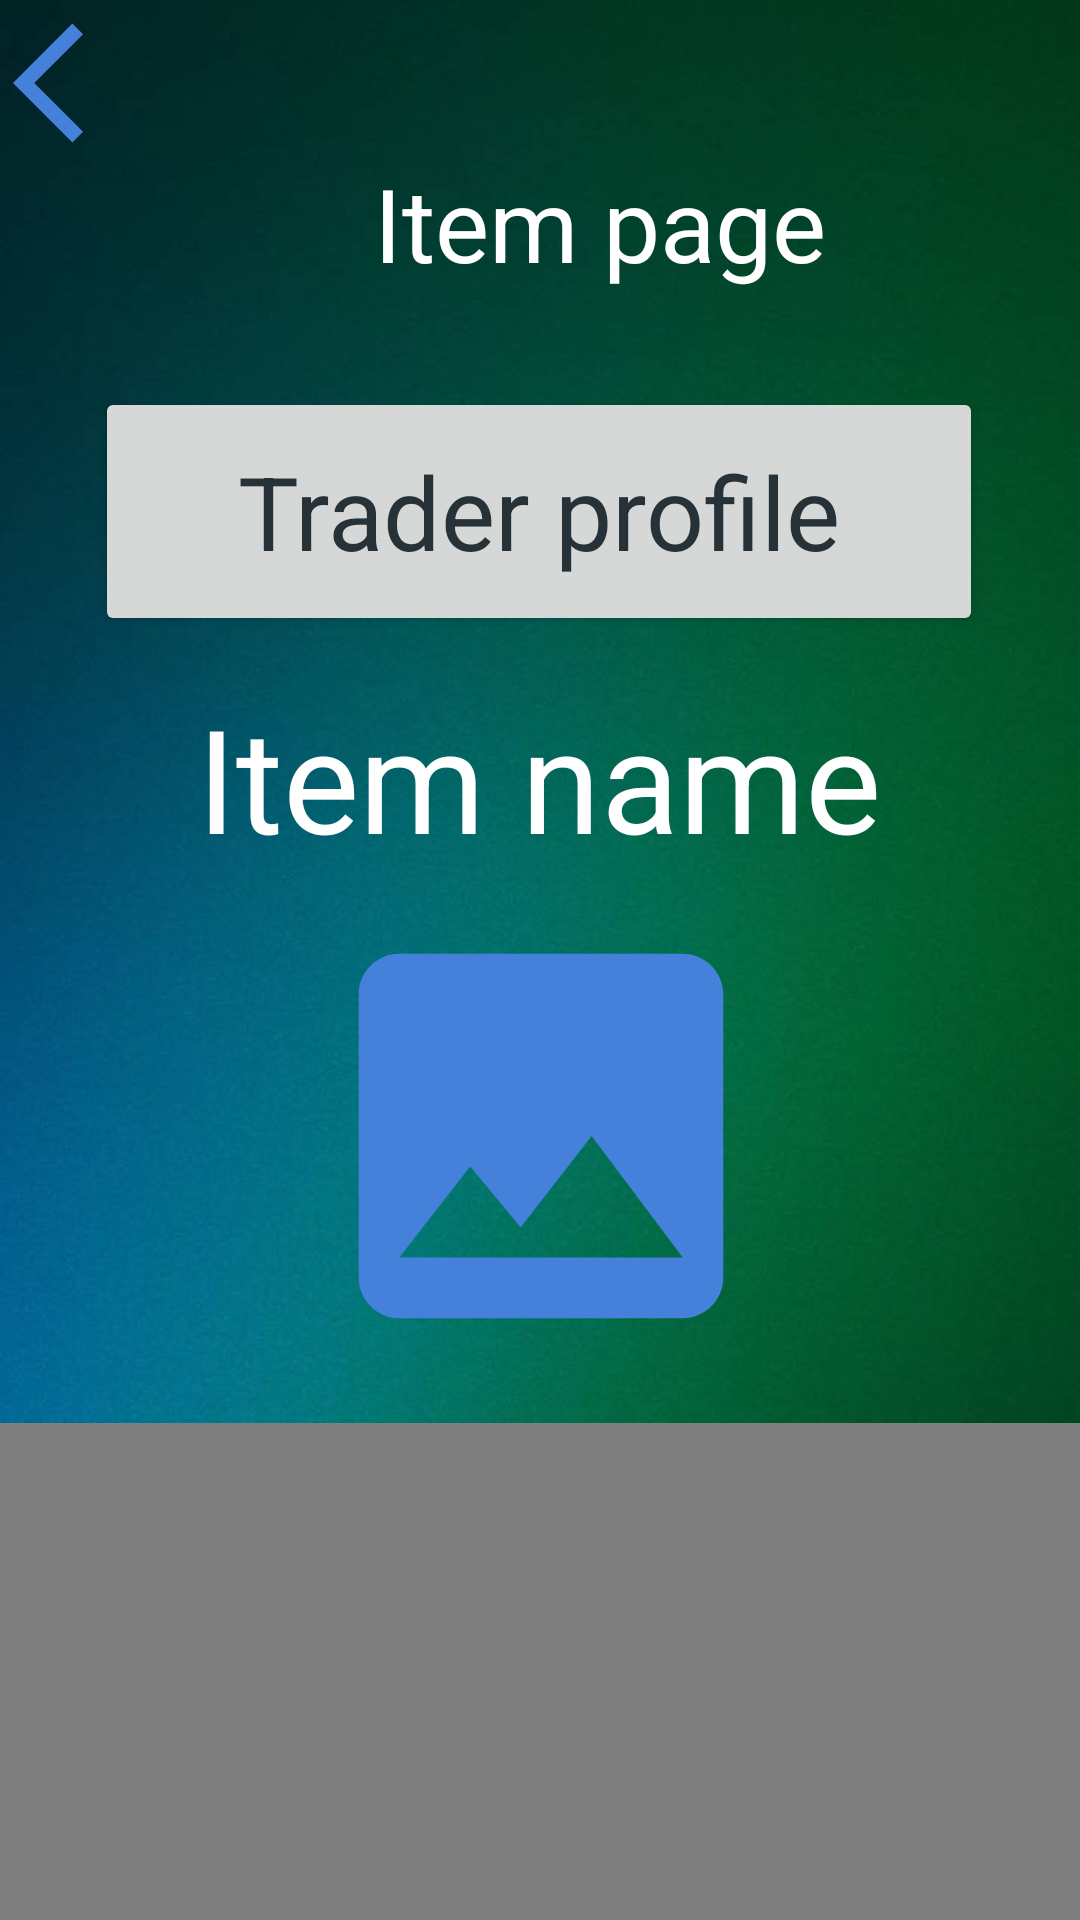

Icon bounding boxes for this 1080px×1920px phone screenshot, format [x1, y1, x2, y2]:
Back button: [13, 23, 83, 143]
